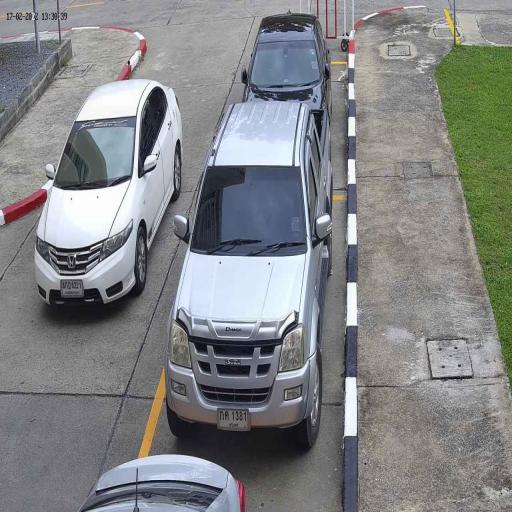car: (164, 100, 334, 445), (33, 78, 184, 312), (74, 451, 246, 512), (241, 12, 333, 110)
